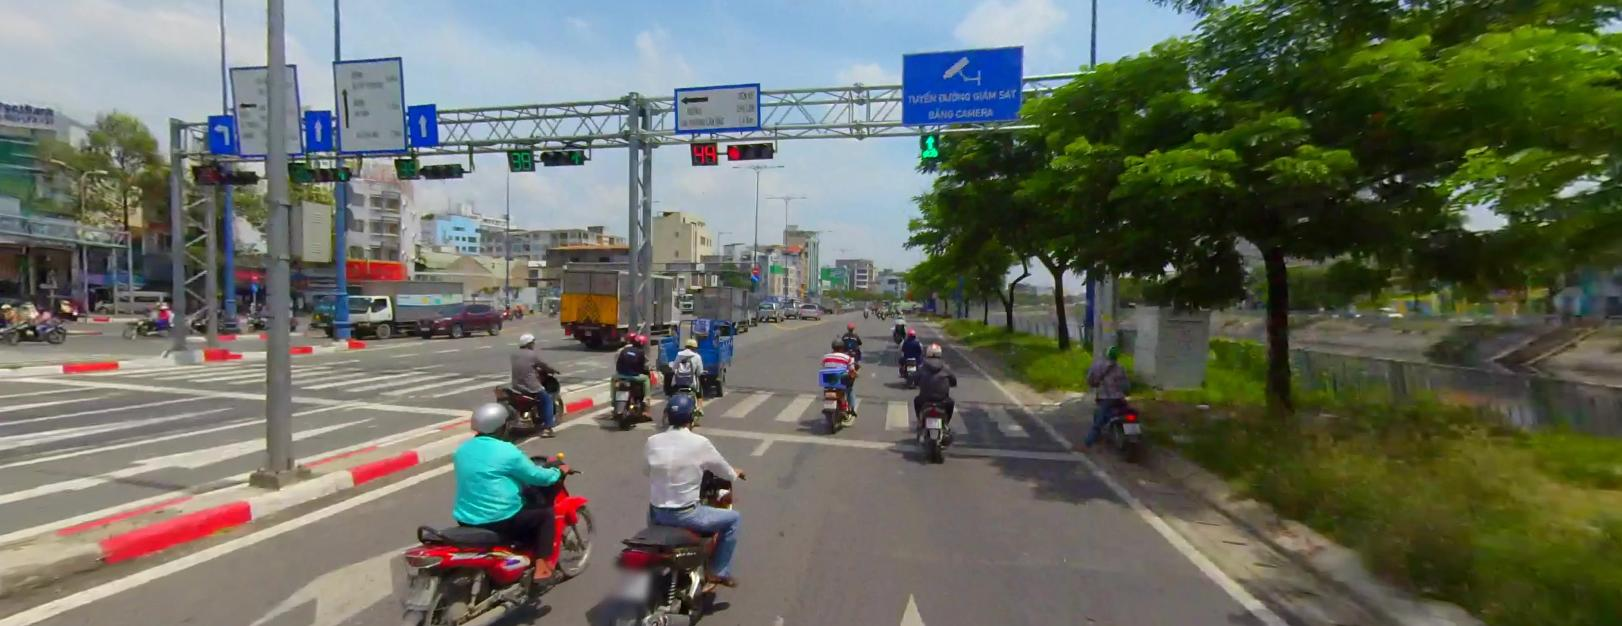Cam nguoc chieu: (751, 266, 759, 272)
Hieu lenh: (751, 272, 759, 280)
